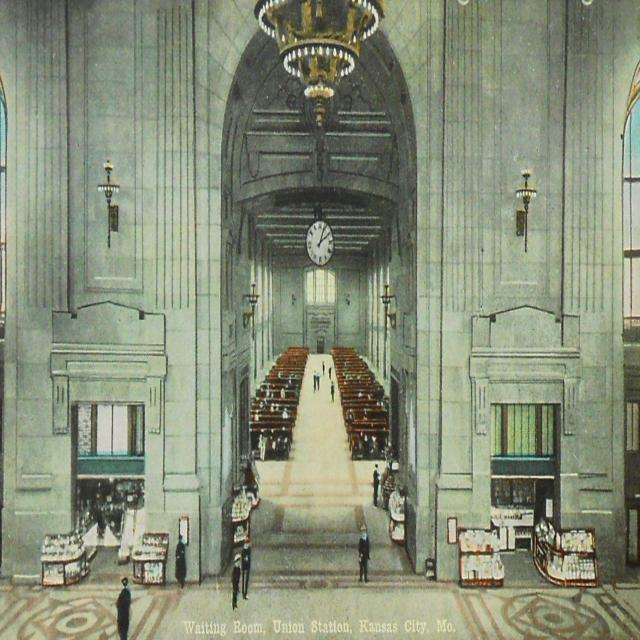body: (239, 345, 309, 464), (329, 344, 394, 463), (109, 575, 134, 639), (92, 502, 125, 540), (115, 576, 132, 640), (356, 523, 371, 586), (174, 533, 188, 591), (240, 534, 252, 601), (231, 553, 242, 613), (372, 463, 381, 510), (312, 368, 318, 391), (330, 380, 335, 405), (312, 374, 317, 394), (316, 371, 320, 392), (322, 360, 326, 377), (328, 364, 332, 381)
